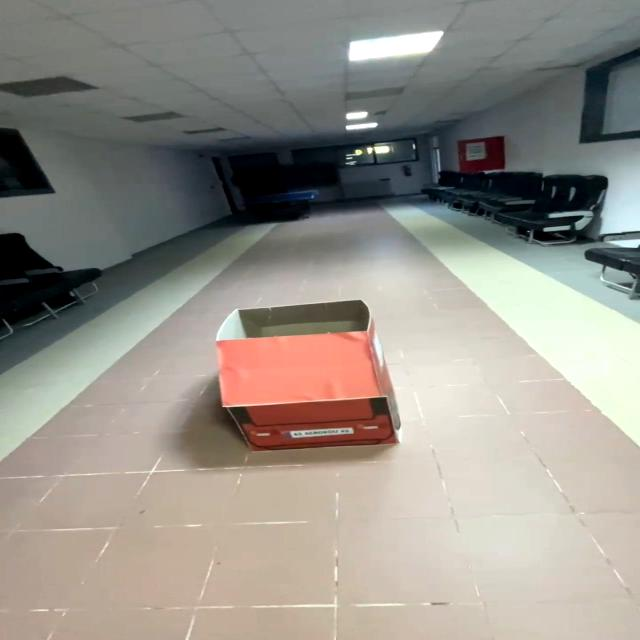red_car: (197, 288, 421, 467)
